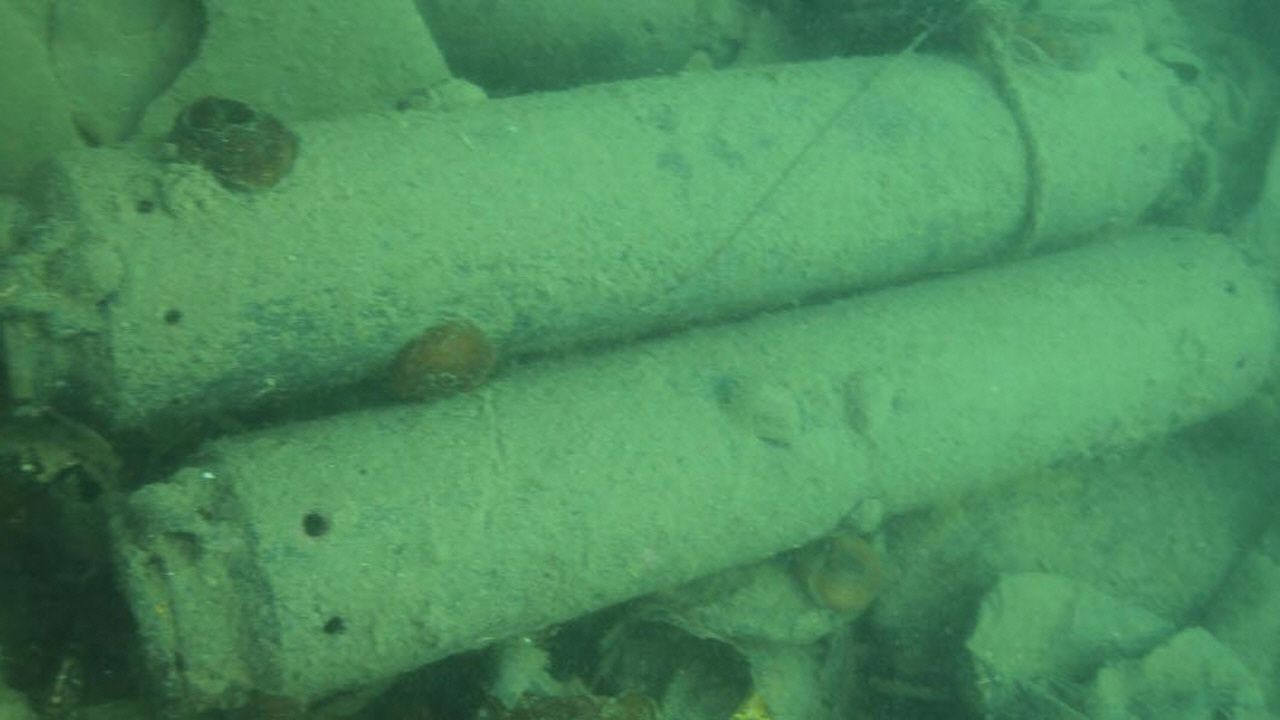eel fish trap: (101, 221, 1272, 711), (1, 9, 1186, 447)
rope: (950, 15, 1058, 262)
